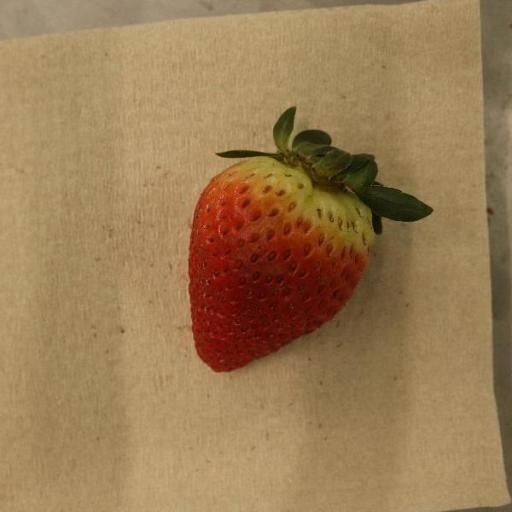Strawberry: (190, 106, 435, 373)
